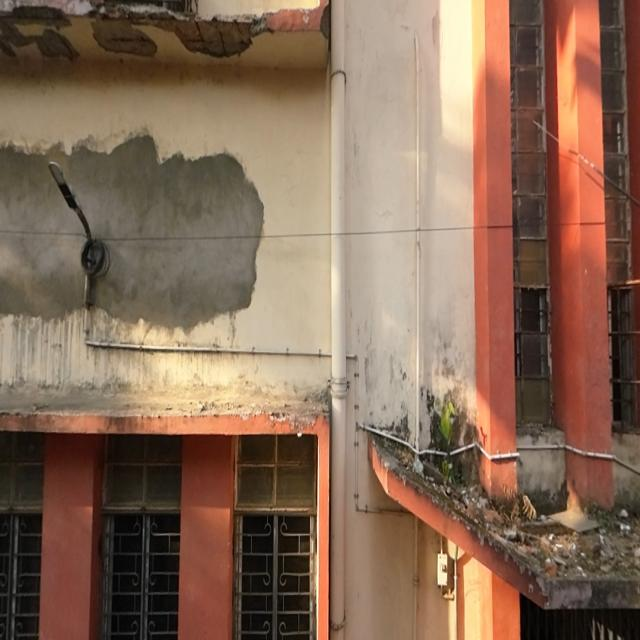spalling: (61, 136, 264, 330), (0, 0, 275, 62), (0, 148, 83, 317)
